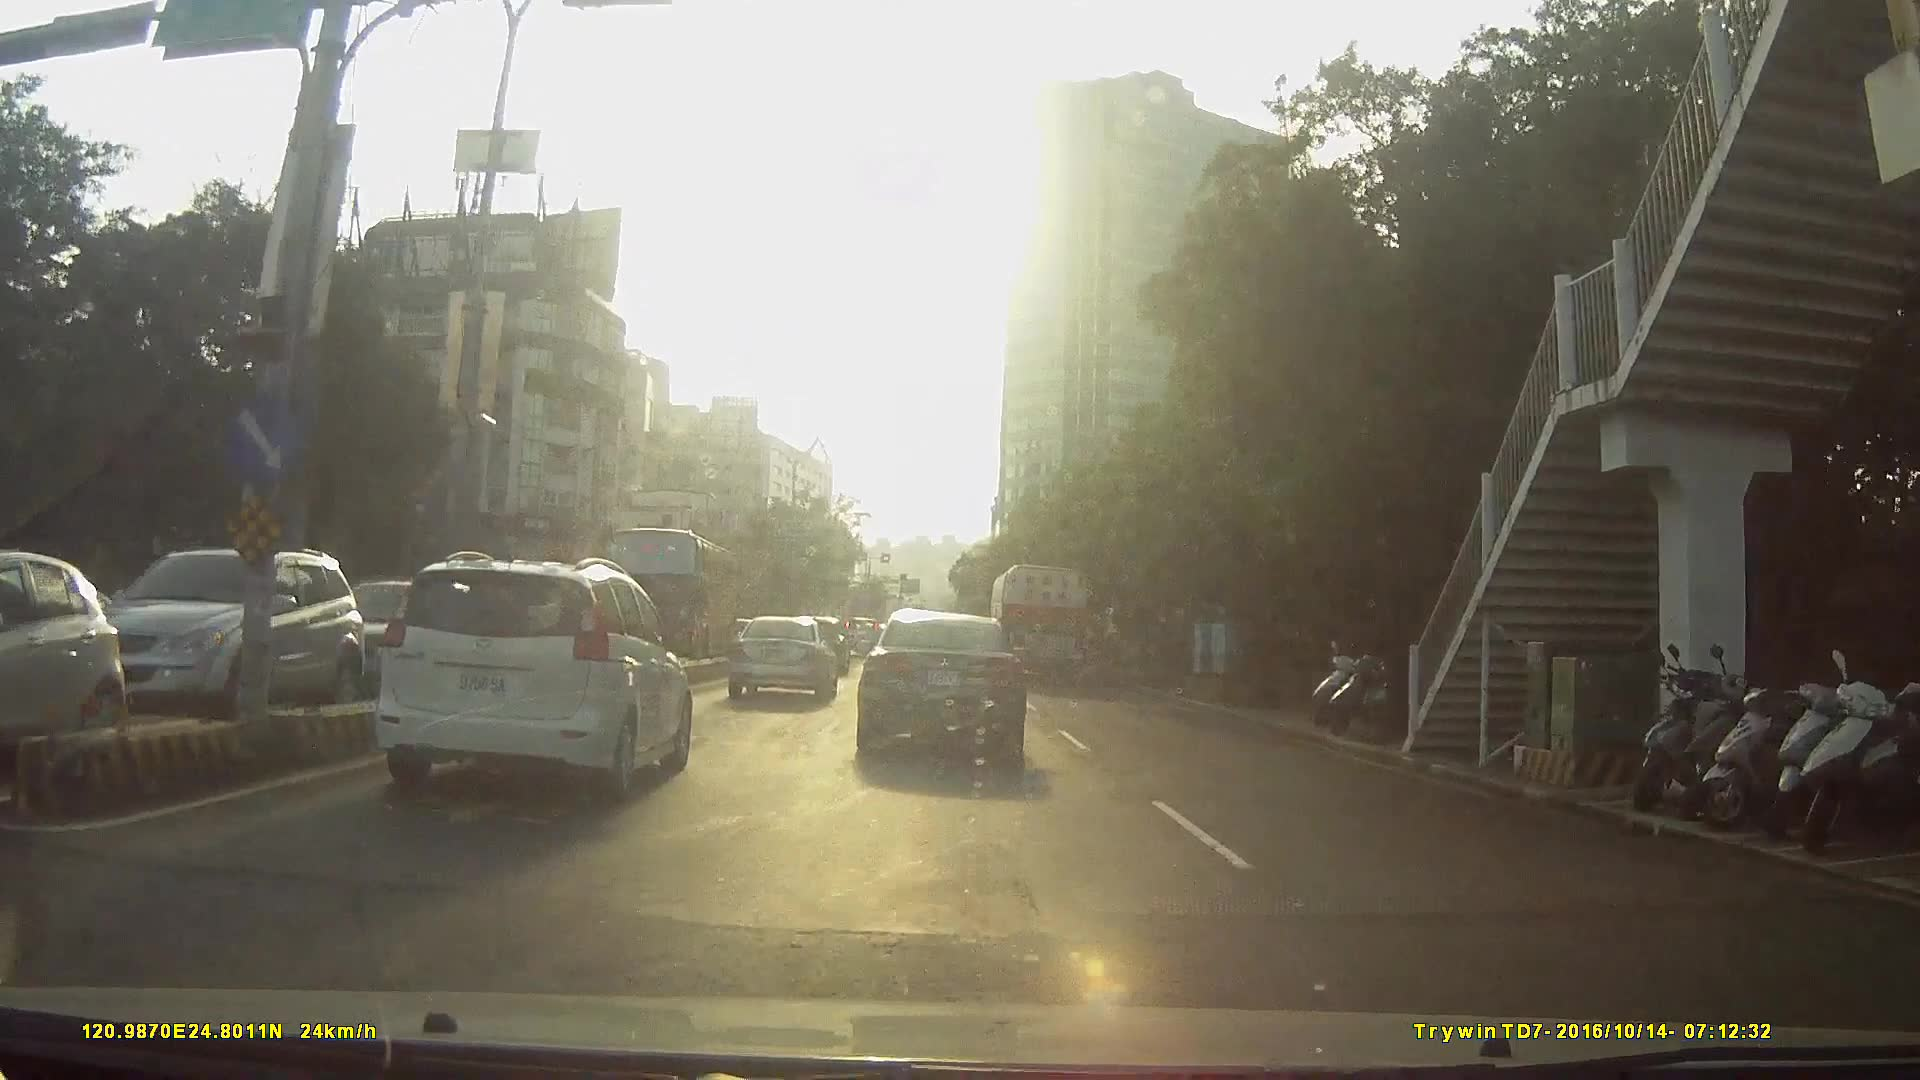vehicle: (251, 556, 684, 868), (376, 547, 694, 799), (80, 531, 385, 731), (856, 600, 1029, 769), (306, 574, 491, 686), (593, 522, 735, 663), (0, 553, 75, 750), (988, 559, 1093, 686), (728, 613, 837, 705), (839, 613, 886, 655)
